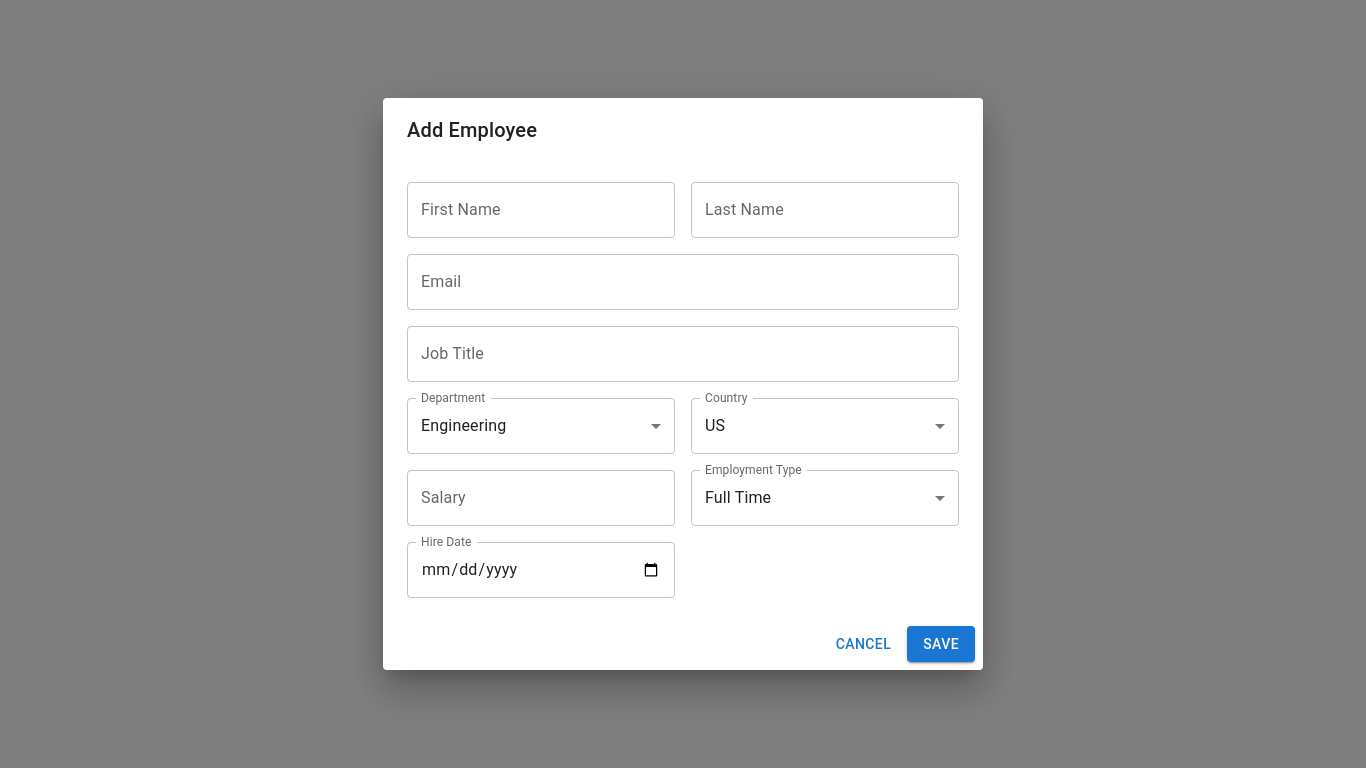
it: EmployeeModal › shows validation error when last name is empty
The image size is (1366, 768).
Type "Alice" into the field labelled "First Name" at coordinates (541, 210), box [407,182,675,238]
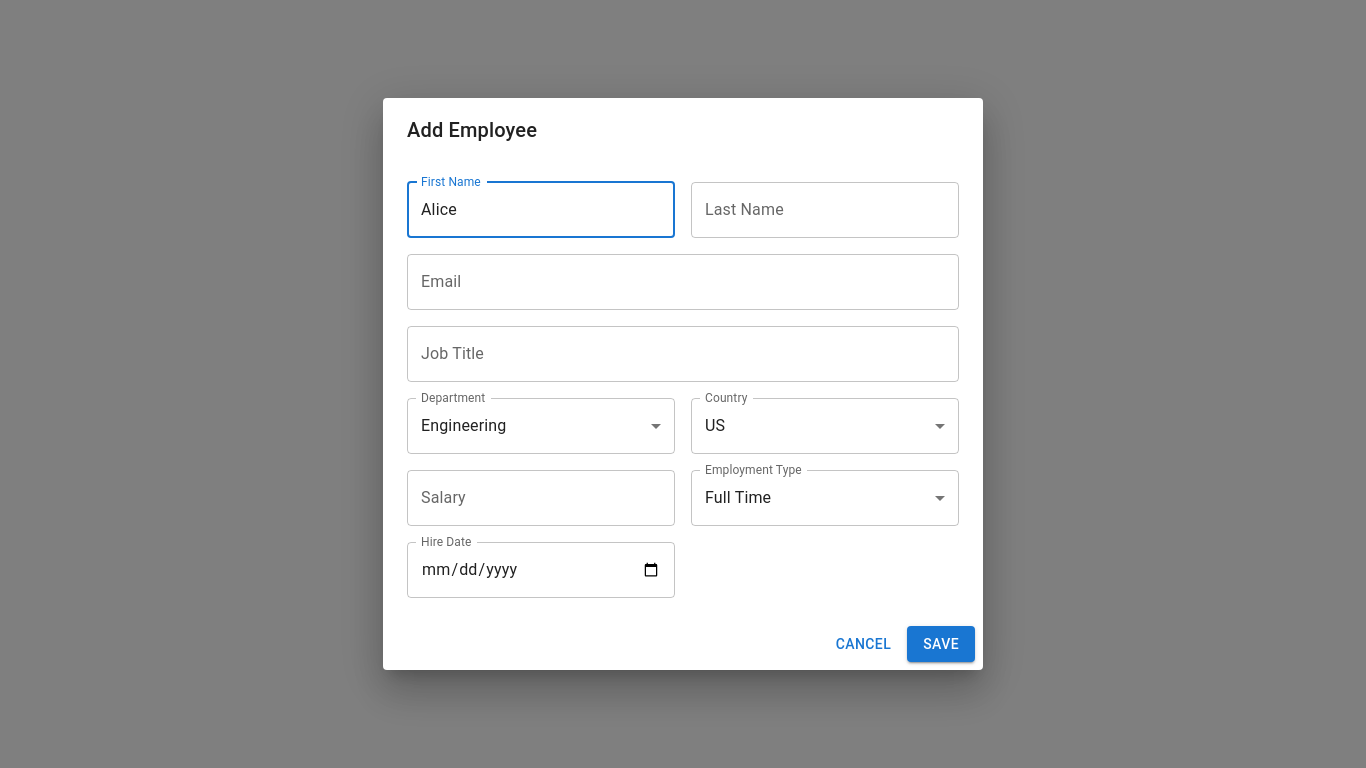
Click the button "Save" at coordinates (941, 644), box [907,626,975,662]
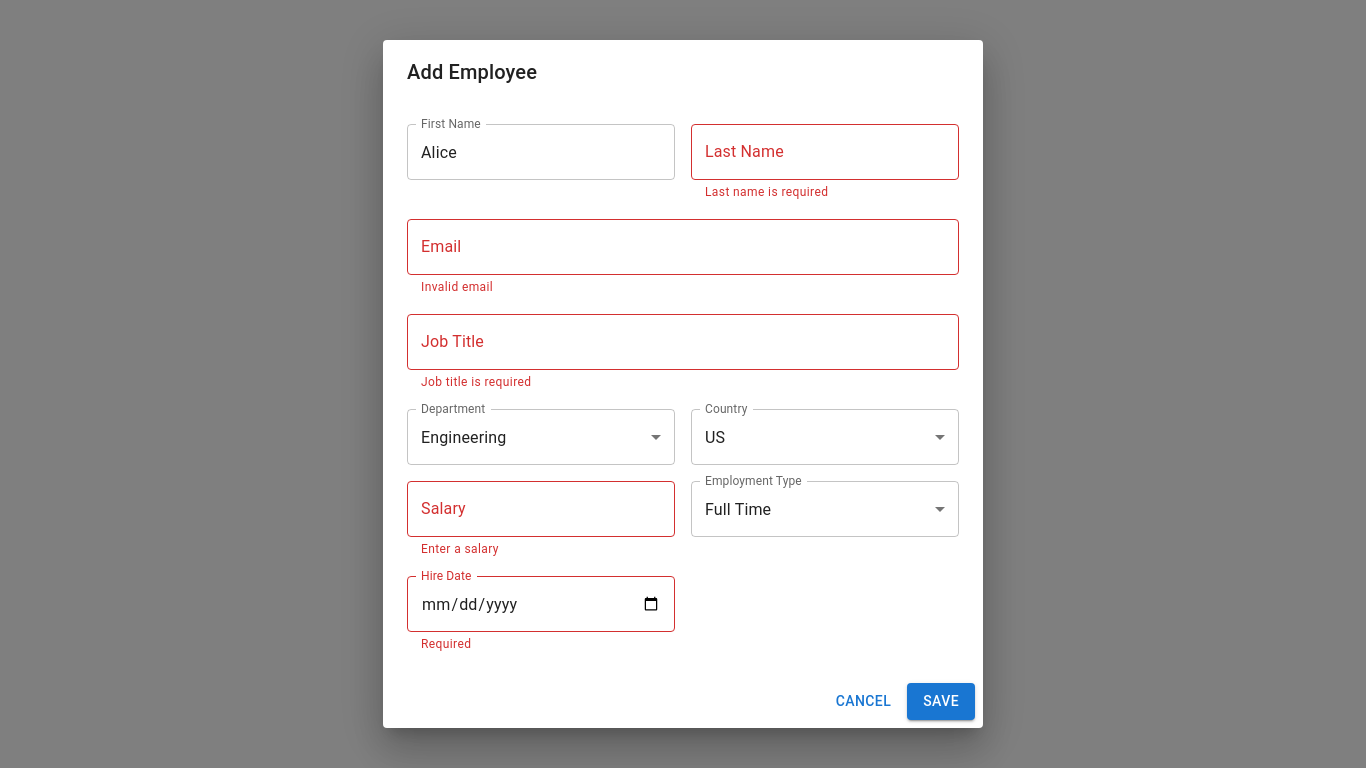
Check: the text "Last name is required" is shown, box [705,186,828,200]
